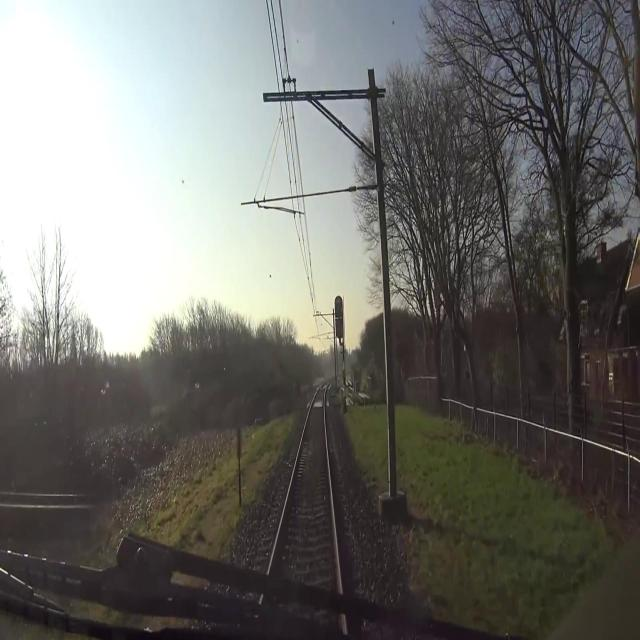rail-track: (270, 388, 339, 599)
